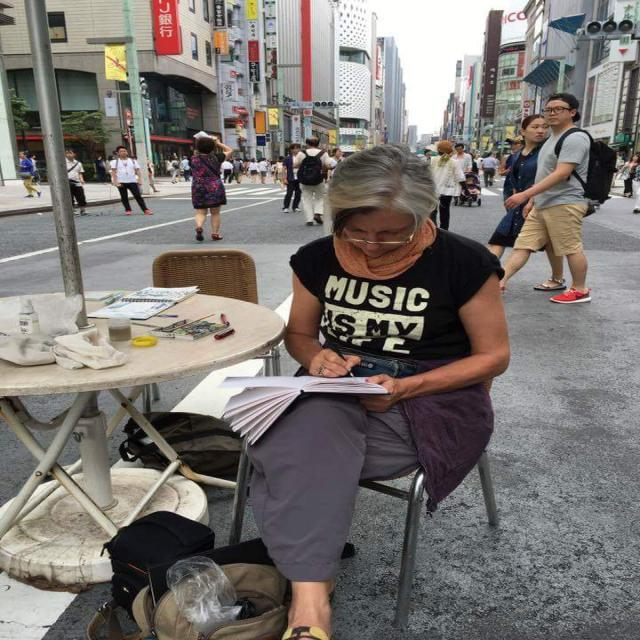body: (214, 140, 512, 639), (495, 93, 621, 305), (485, 113, 569, 292), (187, 129, 234, 242), (290, 135, 332, 226), (109, 144, 154, 215), (280, 142, 308, 213), (64, 147, 92, 217), (228, 156, 278, 188), (14, 150, 43, 198), (619, 153, 639, 198), (479, 151, 497, 187), (146, 154, 161, 193), (270, 155, 286, 189), (628, 153, 640, 198), (329, 147, 345, 179), (610, 150, 622, 188), (104, 154, 117, 186), (218, 157, 234, 183), (25, 152, 38, 182), (468, 152, 482, 179), (169, 154, 180, 185), (231, 158, 244, 184), (180, 155, 192, 182), (257, 157, 269, 184), (420, 148, 434, 171), (248, 157, 260, 183), (491, 153, 501, 183), (96, 157, 108, 182), (164, 157, 174, 177), (338, 154, 348, 161), (620, 153, 628, 161), (129, 153, 137, 161)
